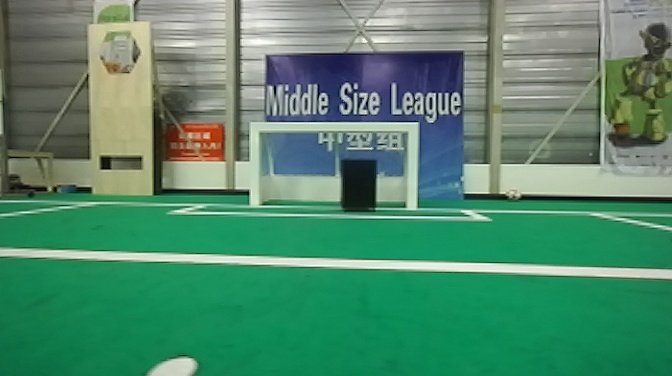ball: (502, 184, 520, 203)
goalpost: (246, 120, 270, 209), (403, 121, 418, 210)
